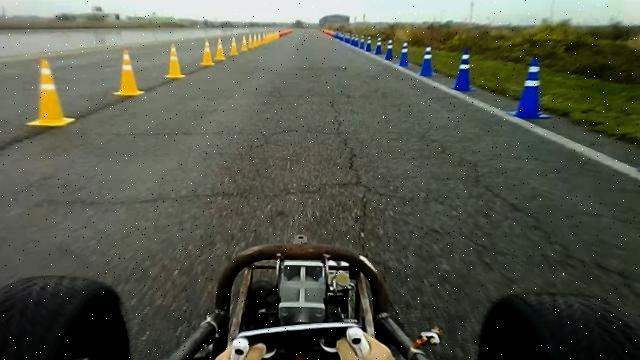blue cone: (510, 56, 551, 119), (452, 47, 476, 92), (419, 44, 437, 77), (398, 40, 411, 68), (384, 38, 394, 61), (374, 37, 383, 55)
yellow cone: (26, 57, 76, 127), (112, 49, 144, 96), (164, 43, 185, 78), (200, 39, 214, 66), (214, 37, 227, 61), (229, 36, 239, 56)
